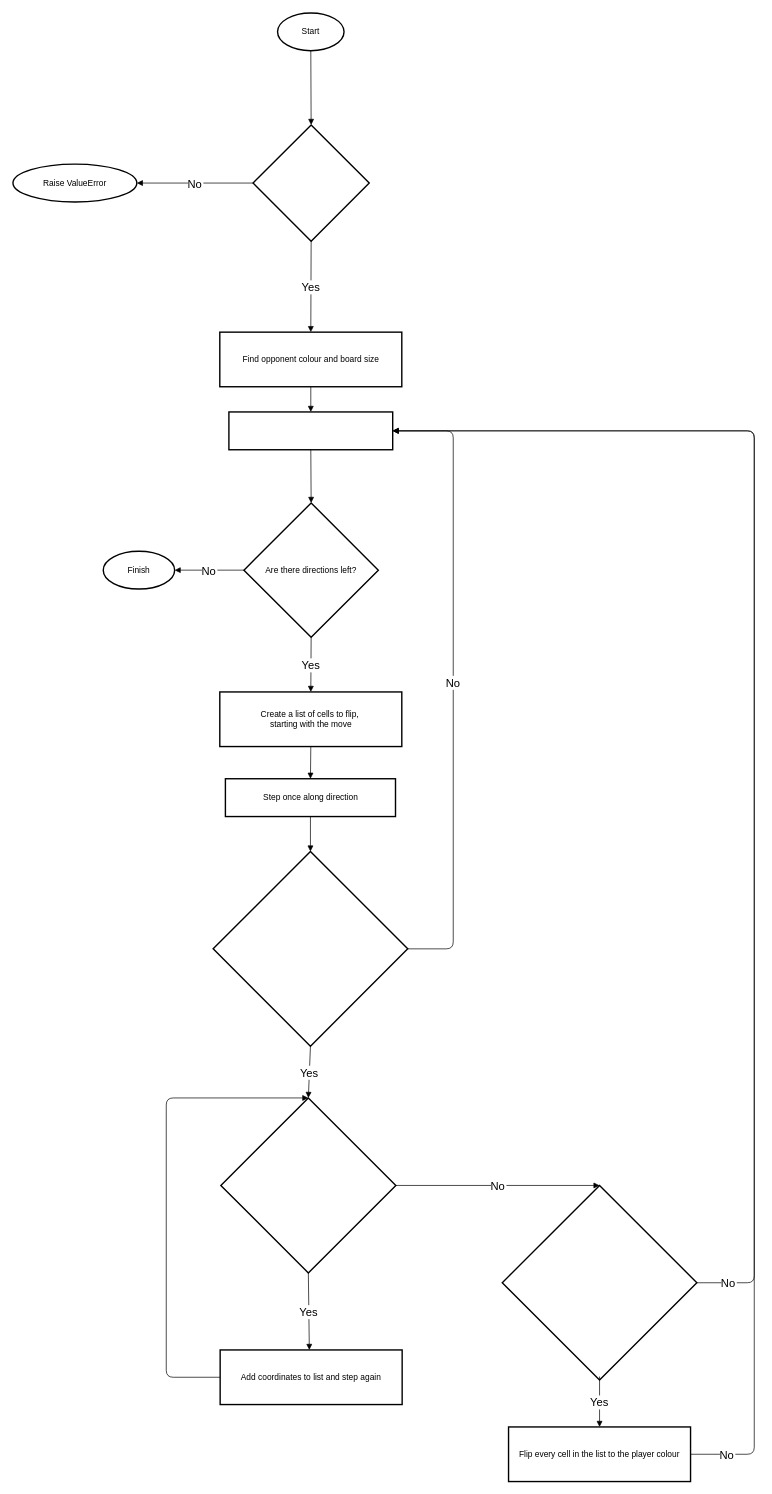
Some shapes in this 772 by 1494 pixel diagram are drawn without their labels. The centre of each missing label's shape, as x and y in pixels:
"First step on board and encounters opponent colour?" goes at point 310,948.
"Is move legal? (legal_move)" goes at point 311,182.
"Iterate over directions (N, NW, W, SW, S, SE, E, NE)" goes at point 310,430.
"Still in board bounds and encountered own colour?" goes at point 599,1282.
"Still in board bounds and encountering opponent colour?" goes at point 308,1185.
